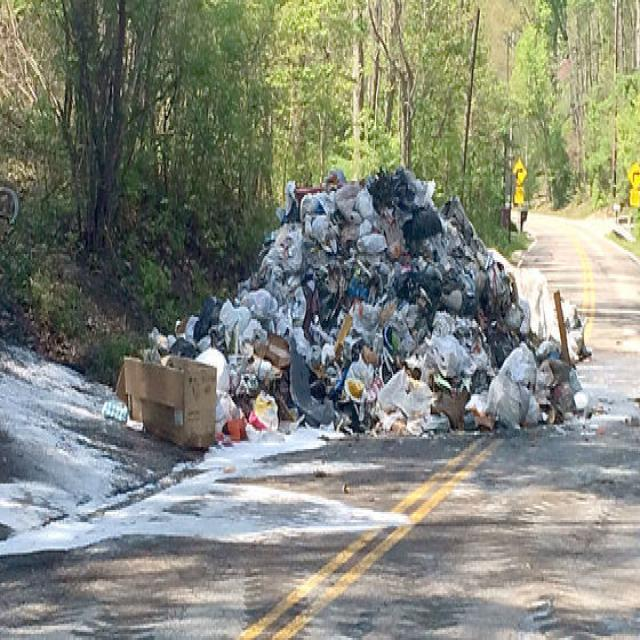plastic: (101, 163, 597, 452)
